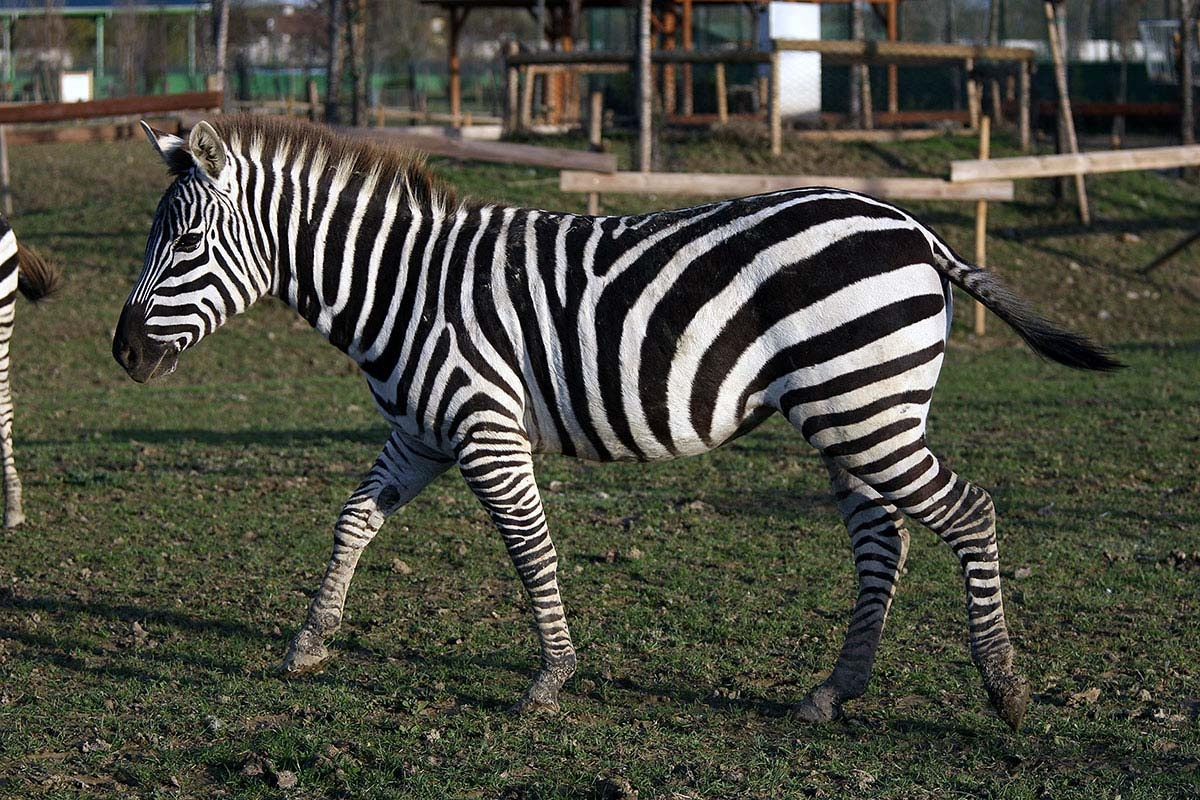zebra: (109, 112, 1091, 737)
